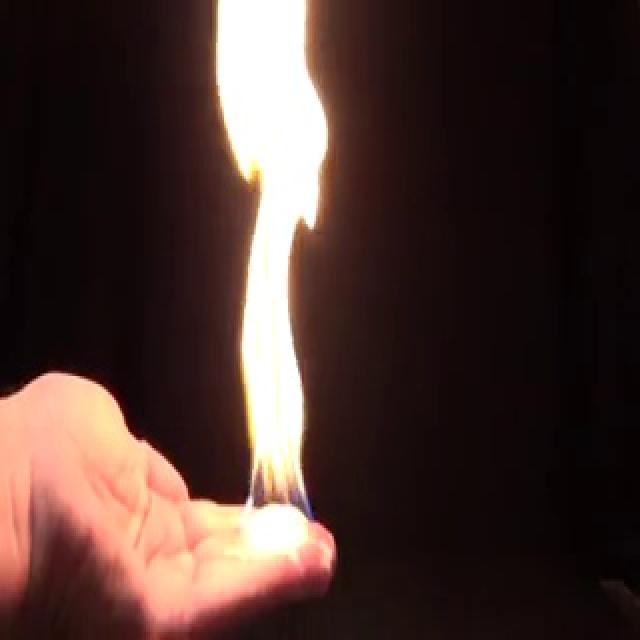fire: (202, 0, 331, 550)
